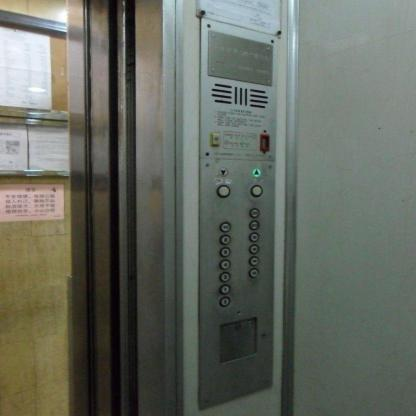1: (218, 284, 230, 294)
10: (219, 221, 230, 232)
14: (247, 256, 258, 266)
16: (248, 244, 258, 254)
18: (248, 232, 258, 242)
2: (218, 272, 230, 282)
20: (248, 219, 259, 230)
22: (249, 208, 258, 217)
4: (218, 258, 230, 270)
6: (218, 245, 229, 256)
8: (219, 233, 230, 244)
blur: (218, 296, 230, 306), (248, 267, 258, 277)
down: (219, 167, 228, 176)
empty: (215, 185, 230, 198), (249, 184, 262, 197)
up: (252, 168, 260, 177)
